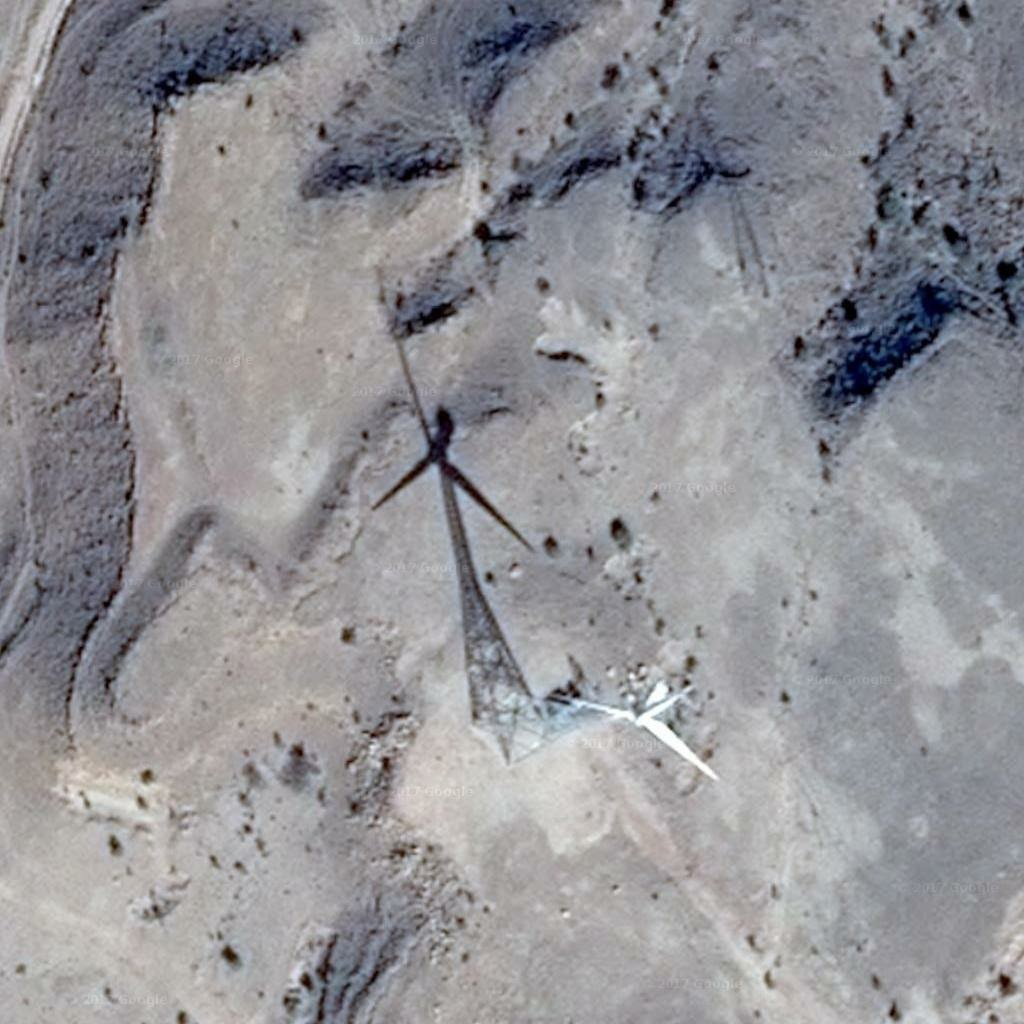Windmill: (358, 338, 581, 735)
